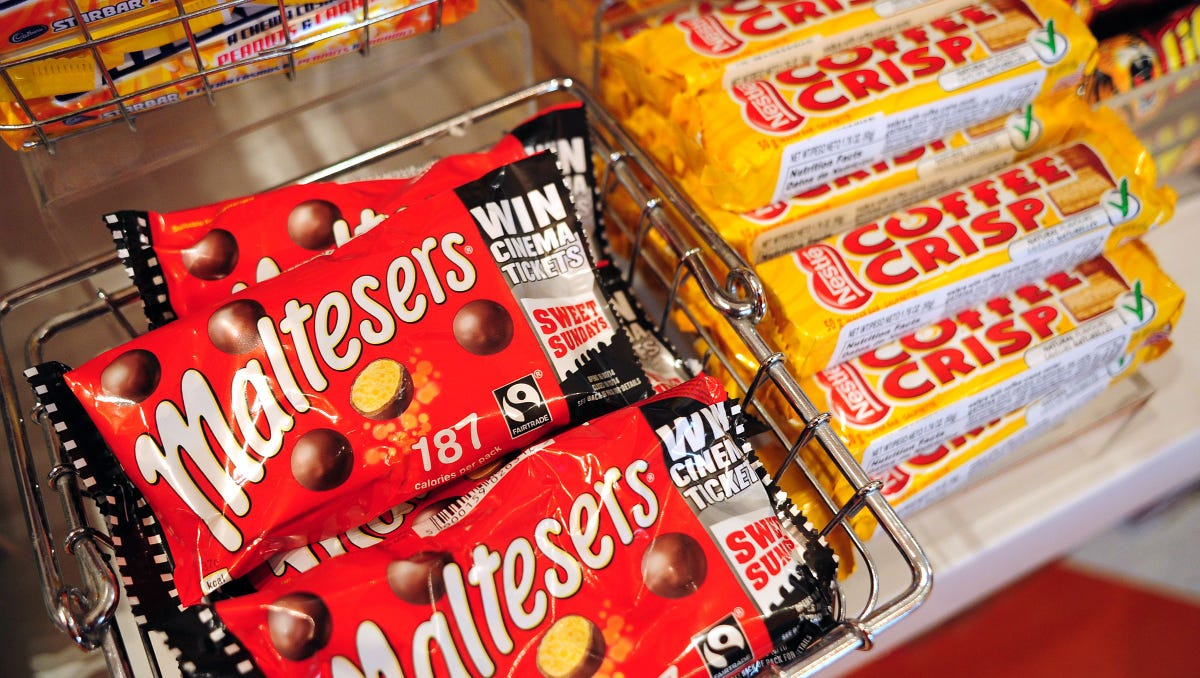Malteasers: (21, 193, 693, 531)
